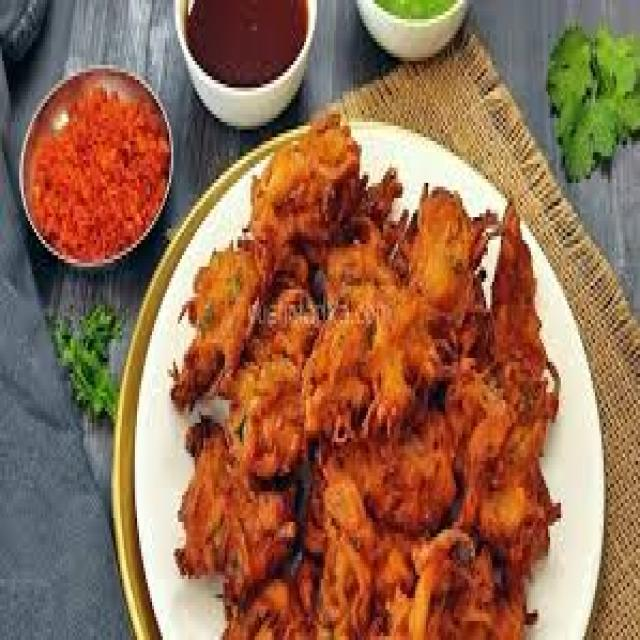BAJI: (167, 110, 562, 636)
